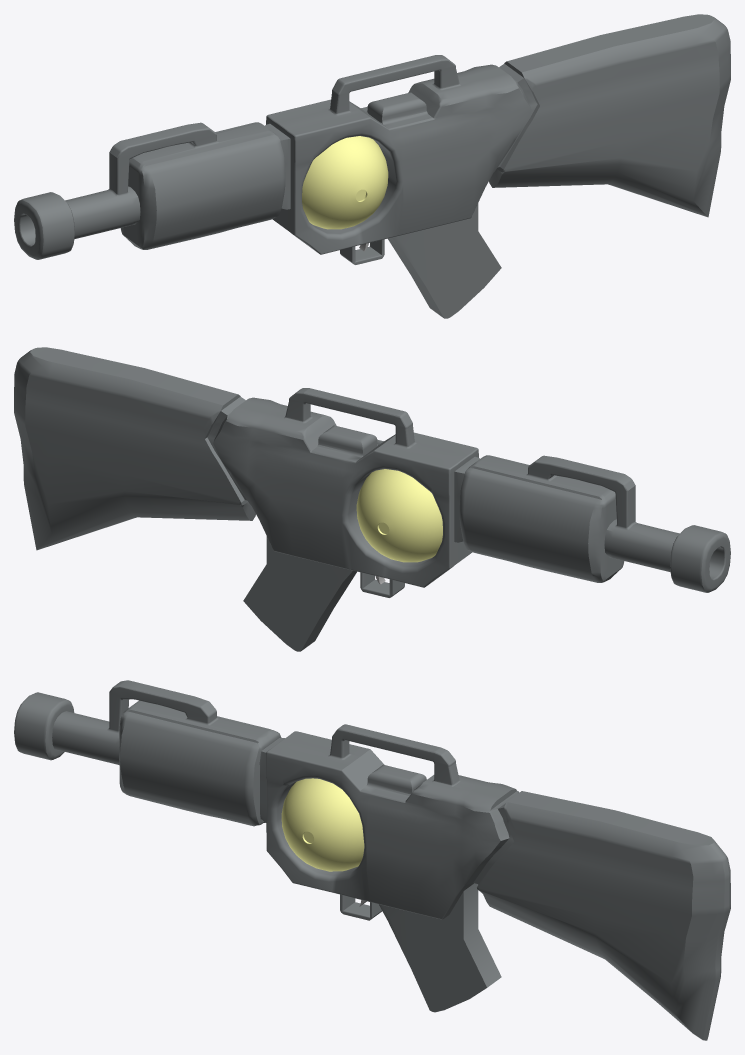
Rendered from Rifle.fbx.
The picture shows the model from 3 angles, top to bottom: view 1: azimuth 30°, elevation 25°; view 2: azimuth 150°, elevation 25°; view 3: azimuth 330°, elevation 25°; orthographic projection.
Visible parts, largest first — view 1: pCube3, Battery; view 2: pCube3, Battery; view 3: pCube3, Battery.
Boxes of the visible parts, left/top/right/bottom form: pCube3: left=14, top=14, right=730, bottom=318; Battery: left=302, top=136, right=388, bottom=229; pCube3: left=14, top=347, right=730, bottom=651; Battery: left=356, top=469, right=442, bottom=562; pCube3: left=14, top=680, right=730, bottom=1040; Battery: left=281, top=778, right=364, bottom=871.
Size of the model in its own units: 1505 by 526 by 197.
